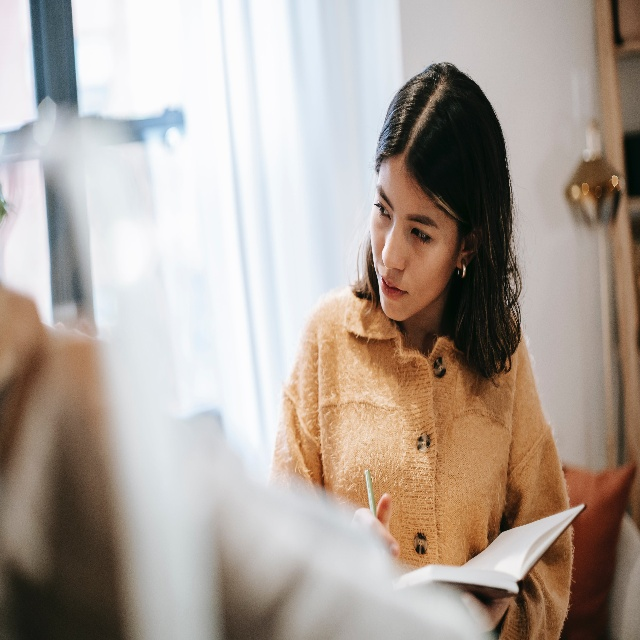Sin_guantes: (357, 495, 397, 556)
